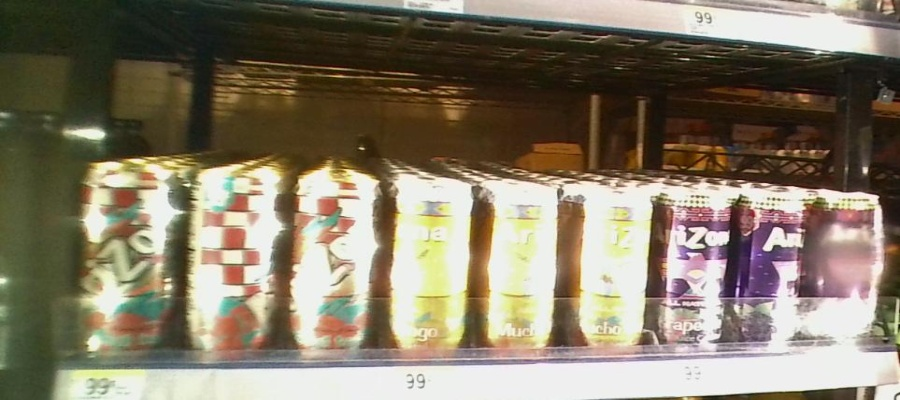bottle: (74, 139, 180, 361), (182, 159, 288, 364), (287, 152, 388, 360), (391, 154, 478, 361), (564, 167, 653, 355), (481, 152, 562, 358), (807, 174, 885, 357), (656, 176, 731, 363), (733, 178, 804, 357)
